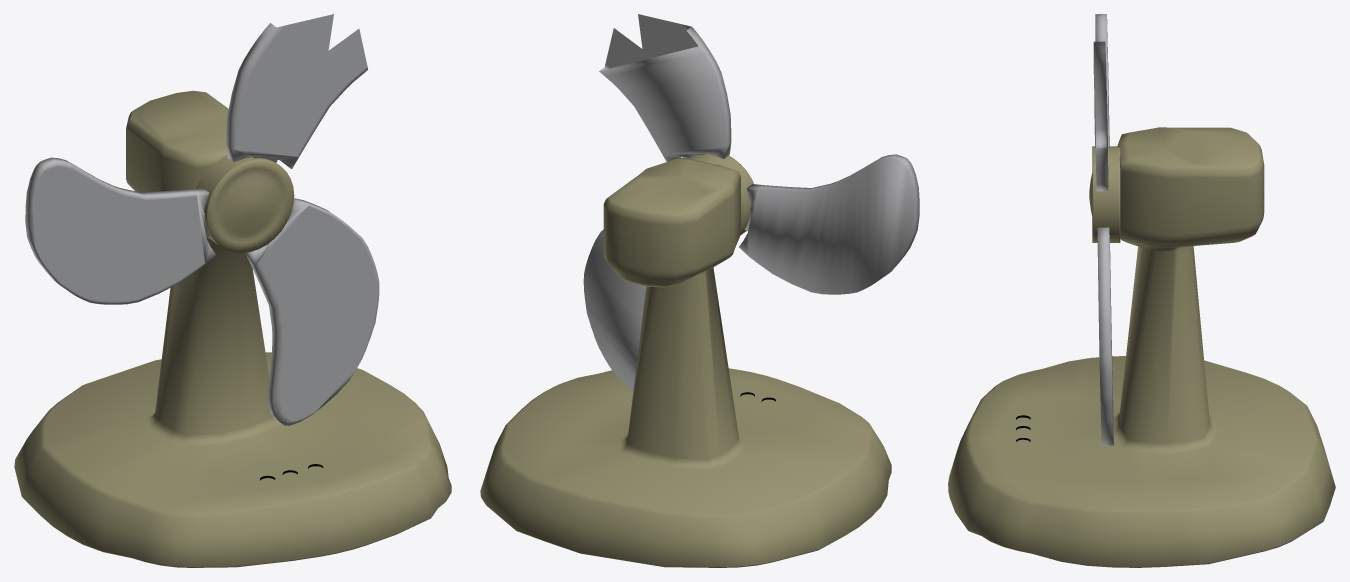
File: ventiladorV2.fbx
The picture shows the model from 3 angles, left to right: view 1: azimuth 30°, elevation 25°; view 2: azimuth 150°, elevation 25°; view 3: azimuth 270°, elevation 25°; orthographic projection. The views are drawn at different scales.
Parts seen in each view (by area): view 1: Cube.001, Plano, Cube.002; view 2: Cube.001, Plano, Cube.002; view 3: Cube.001, Plano, Cube.002.
Part boxes in pixels (x1=…): Cube.001: x1=14, y1=90, x2=451, y2=567; Plano: x1=25, y1=14, x2=379, y2=425; Cube.002: x1=196, y1=154, x2=294, y2=253; Cube.001: x1=480, y1=157, x2=891, y2=567; Plano: x1=583, y1=14, x2=919, y2=390; Cube.002: x1=687, y1=154, x2=753, y2=235; Cube.001: x1=948, y1=127, x2=1335, y2=567; Plano: x1=1093, y1=14, x2=1113, y2=445; Cube.002: x1=1089, y1=146, x2=1120, y2=242.
Size of the model in its own units: 236 by 258 by 202.
